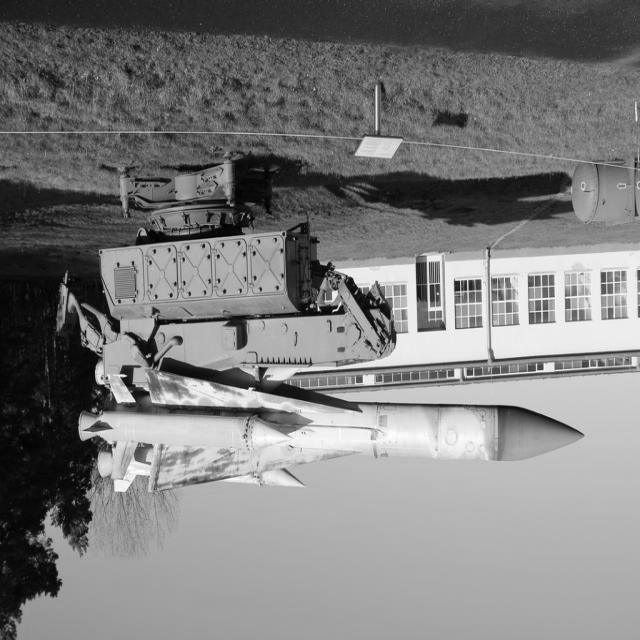Missile: (48, 385, 580, 469), (76, 409, 290, 462)
